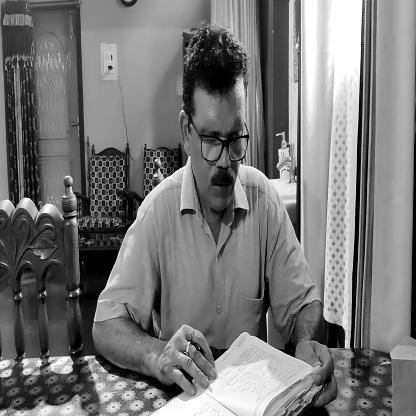Normal: (179, 27, 249, 214)
